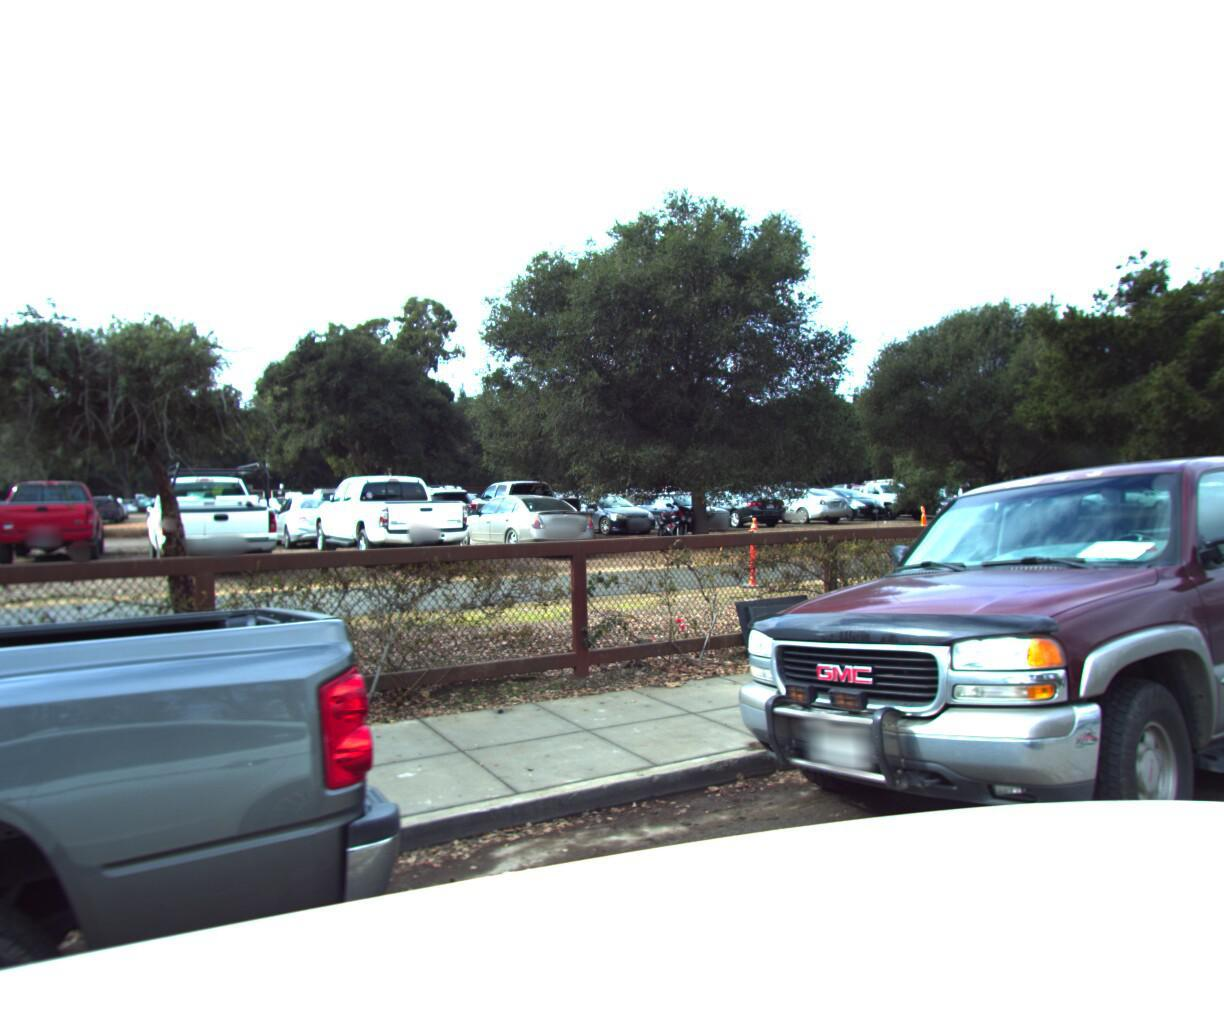car: (658, 388, 1224, 981)
